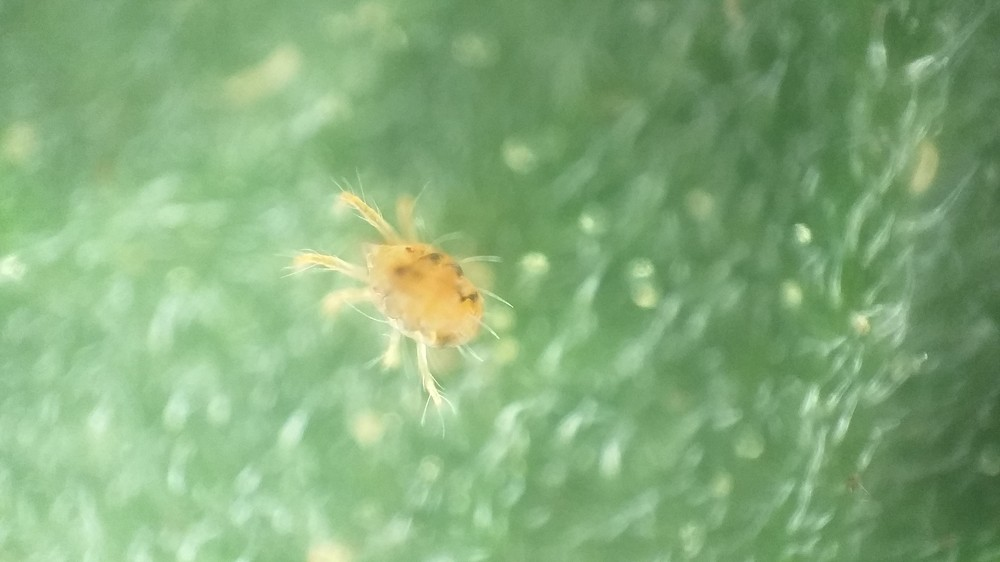Aracnido Rojo: (264, 175, 564, 446)
